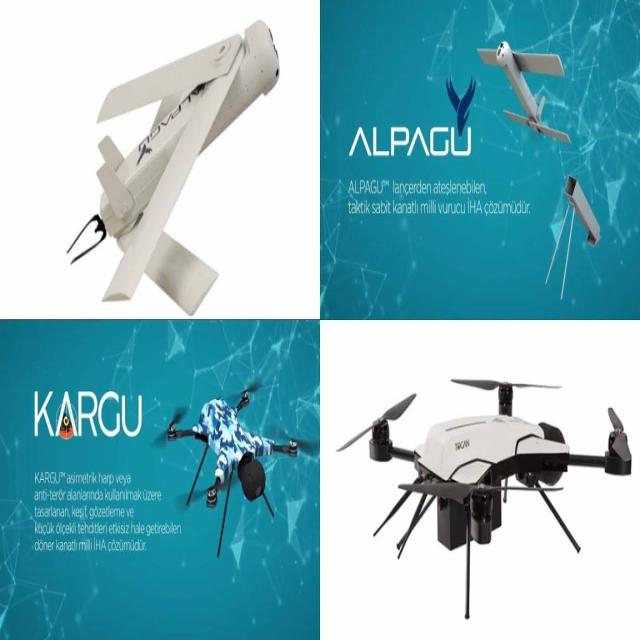drone: (334, 355, 640, 584), (150, 372, 318, 556)
